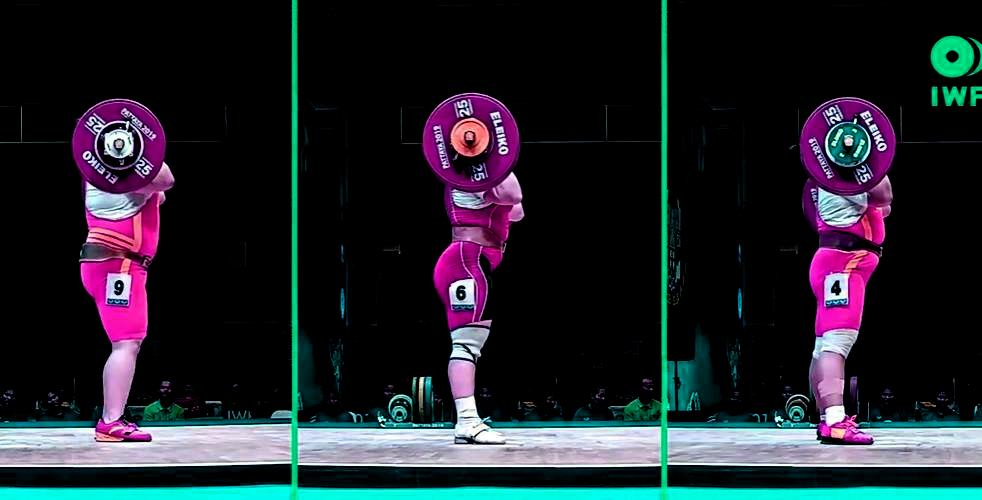Barbell: (449, 108, 507, 167), (817, 120, 876, 168), (93, 120, 147, 168)
